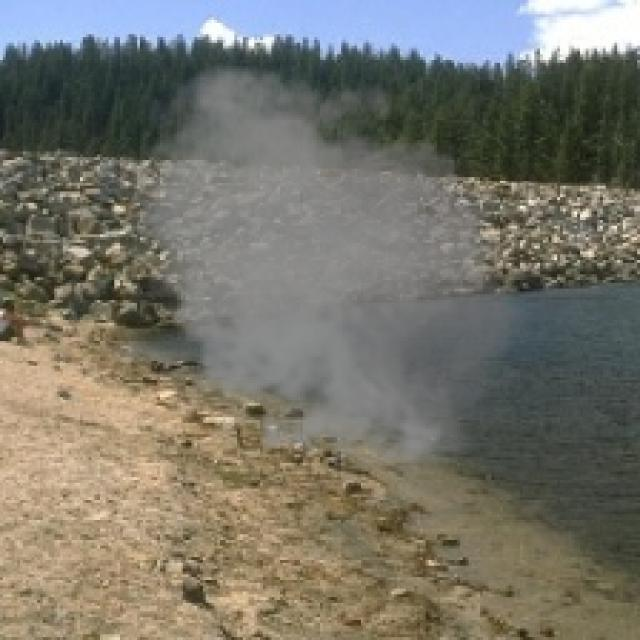smoke: (120, 57, 546, 480)
